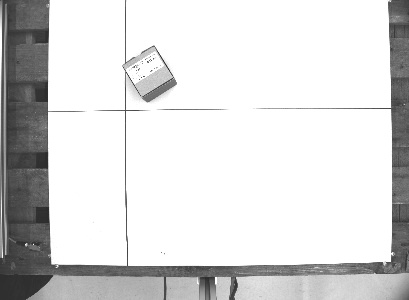b7: (118, 42, 181, 102)
